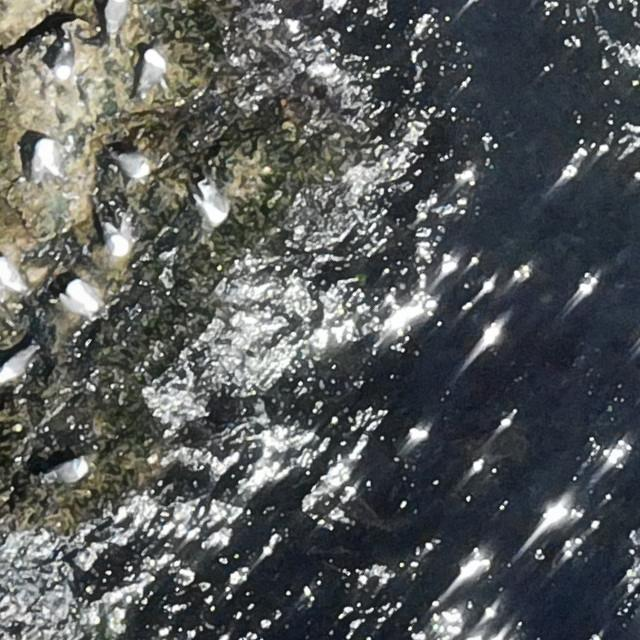umineko: (32, 138, 68, 181), (60, 281, 100, 317), (1, 351, 35, 384), (197, 189, 227, 224), (102, 223, 132, 258), (1, 258, 27, 294), (48, 460, 87, 483), (118, 154, 150, 179), (139, 49, 159, 87), (56, 44, 72, 76)
